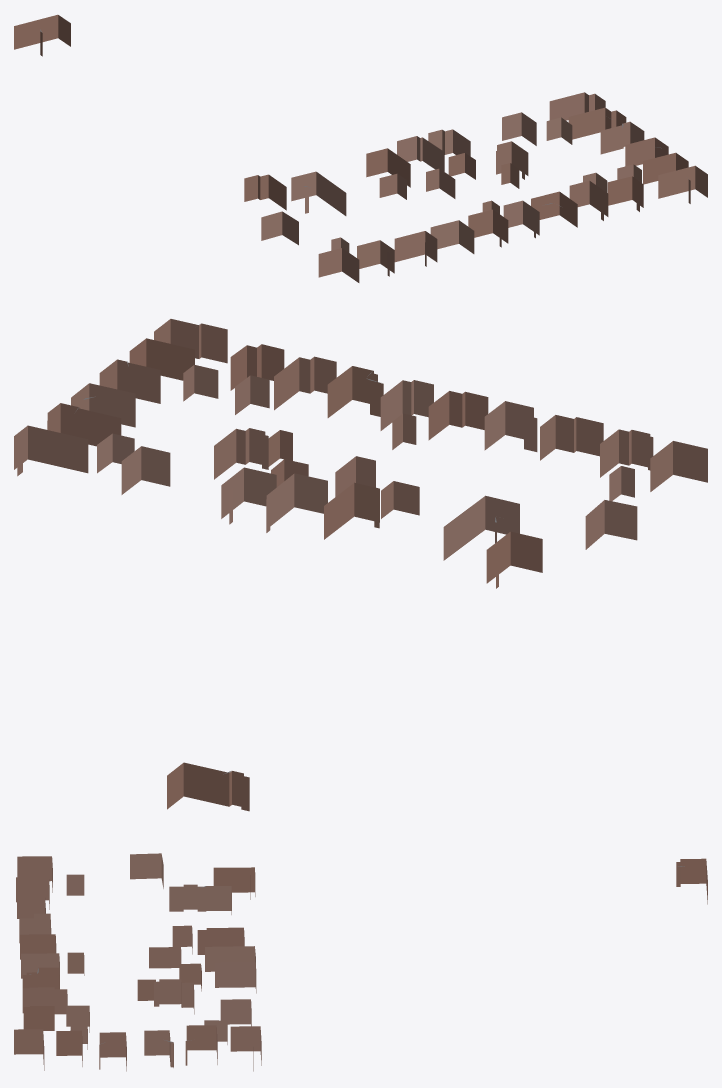
The model's file is c_1641_17824_buildings_residential.glb.
The picture shows the model from 3 angles, top to bottom: view 1: azimuth 30°, elevation 25°; view 2: azimuth 150°, elevation 25°; view 3: azimuth 270°, elevation 25°; orthographic projection. The views are drawn at different scales.
Parts seen in each view (by area): view 1: geometry_0; view 2: geometry_0; view 3: geometry_0.
Boxes of the visible parts, <box> form: geometry_0: <box>14,14,707,282</box>; geometry_0: <box>14,319,707,811</box>; geometry_0: <box>14,853,707,1071</box>.
Size of the model in its own units: 159 by 9.58 by 239.
